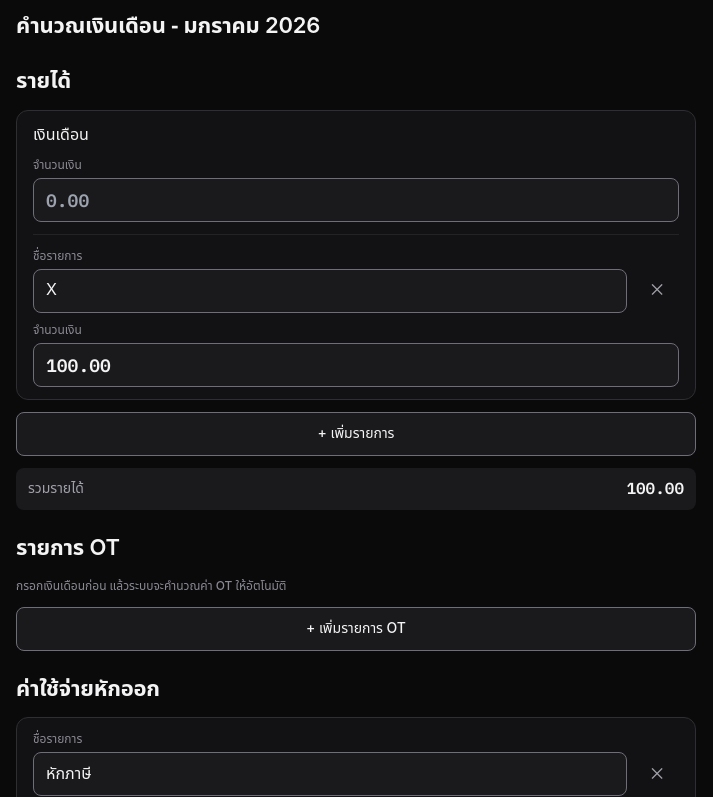
Test: SalaryCalculator › 11. removing the only custom income row leaves the locked เงินเดือน row (not a fresh blank one); the deduction section still falls back to one fresh blank row
Check: the field showing "X" is shown, box [33, 269, 627, 313]
Click the button named "ลบรายการรายได้นี้" at (657, 291), box [635, 269, 679, 313]
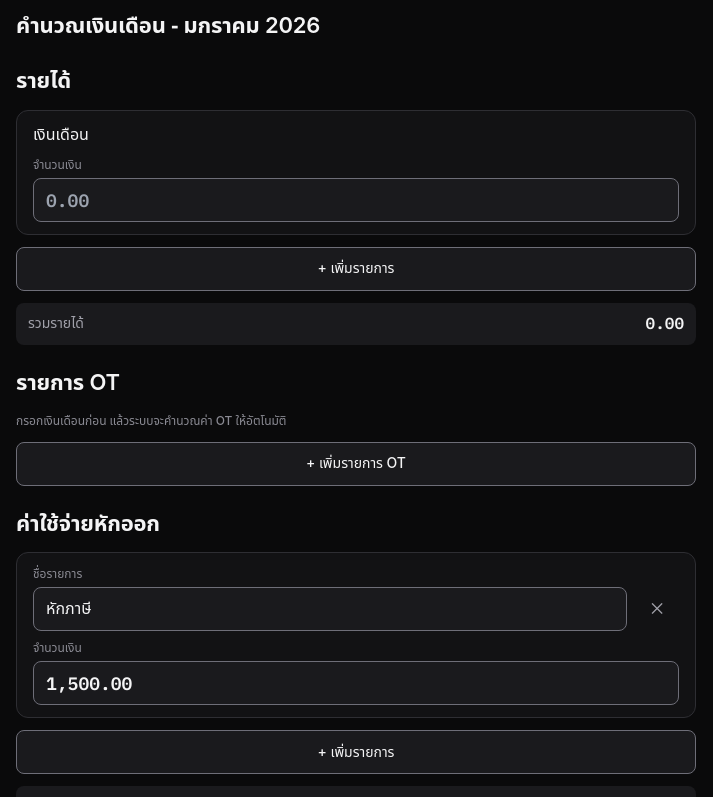
Check: the text "เงินเดือน" is shown, box [33, 123, 89, 147]
Check: no fields labelled "แก้ไขชื่อรายการรายได้" are shown
Click the button named "ลบรายการค่าใช้จ่ายหักออกนี้" at (657, 609), box [635, 587, 679, 631]
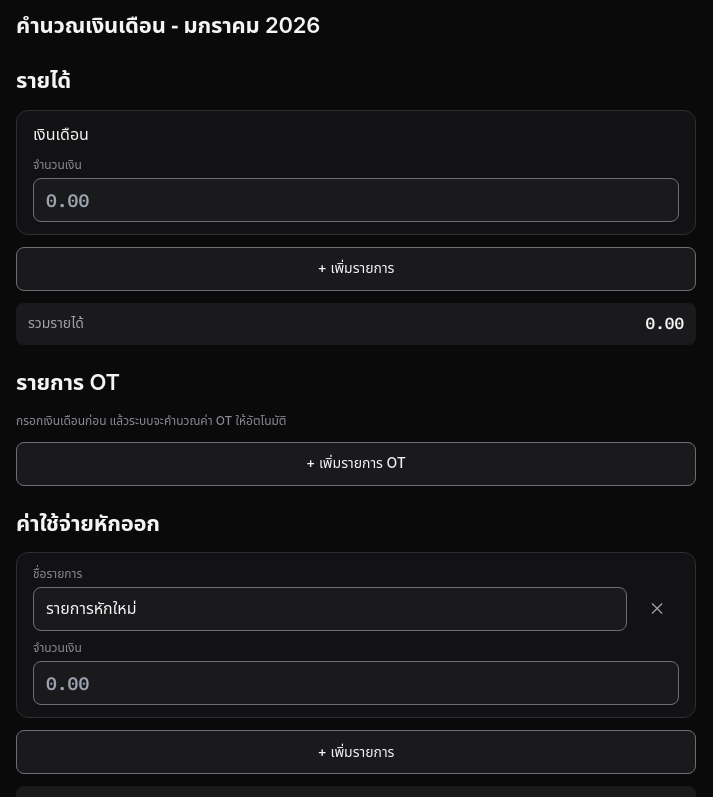
Check: the number of fields named "แก้ไขชื่อรายการค่าใช้จ่ายหักออก" is 1, box [33, 587, 627, 631]
Check: the field named "แก้ไขชื่อรายการค่าใช้จ่ายหักออก" holds "รายการหักใหม่", box [33, 587, 627, 631]
